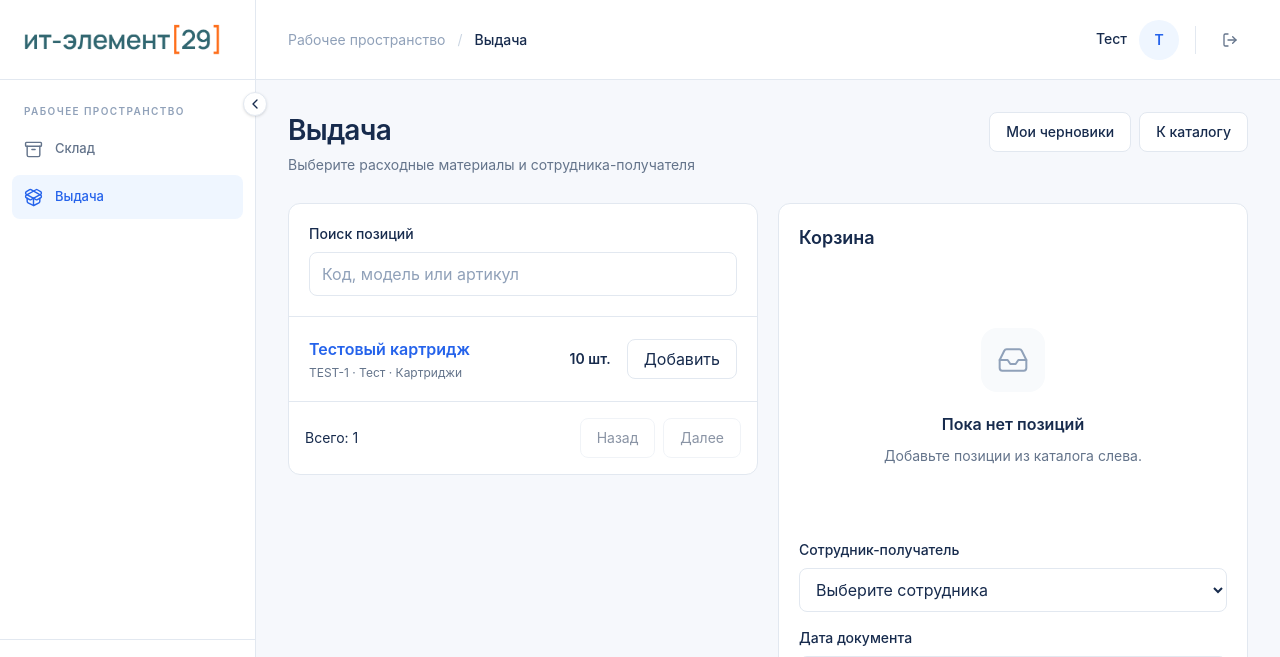
Test: после неизвестного результата блокирует изменения и повторяет тот же payload и ключ
Click the button with aria-label "Добавить в корзину TEST-1": (682, 359) [627,339,737,379]
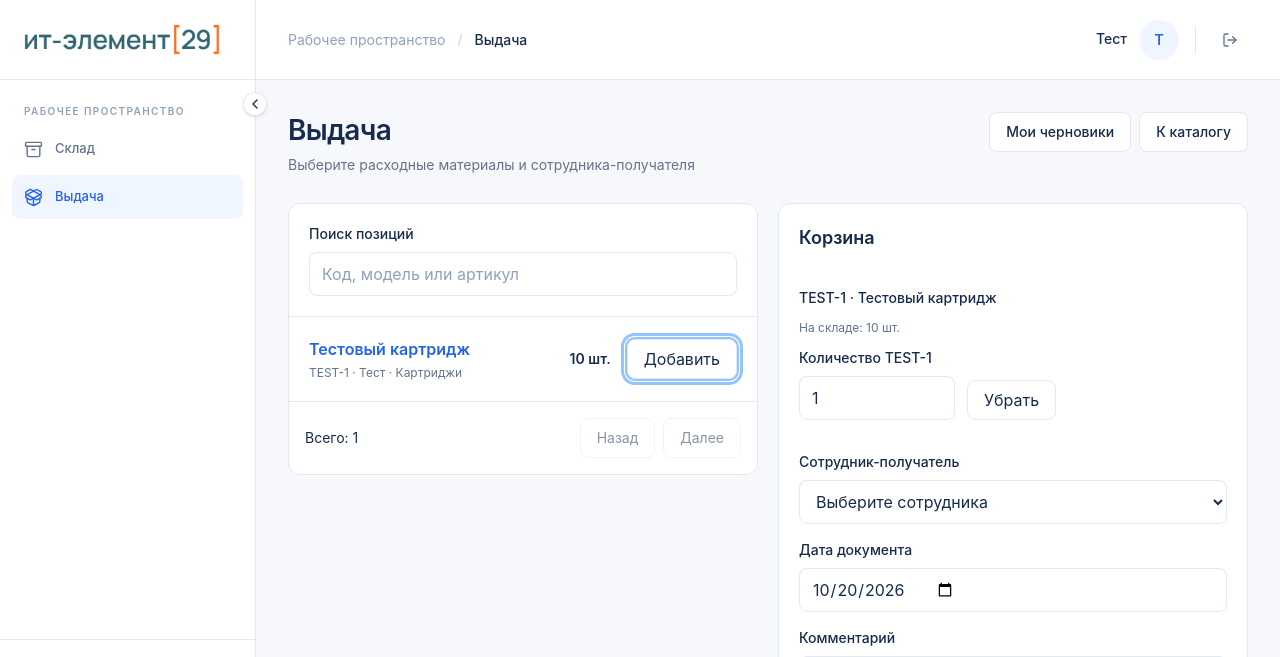
Replace the text in the number field labelled "Количество TEST-1" with "3": (877, 398) [799,376,955,420]
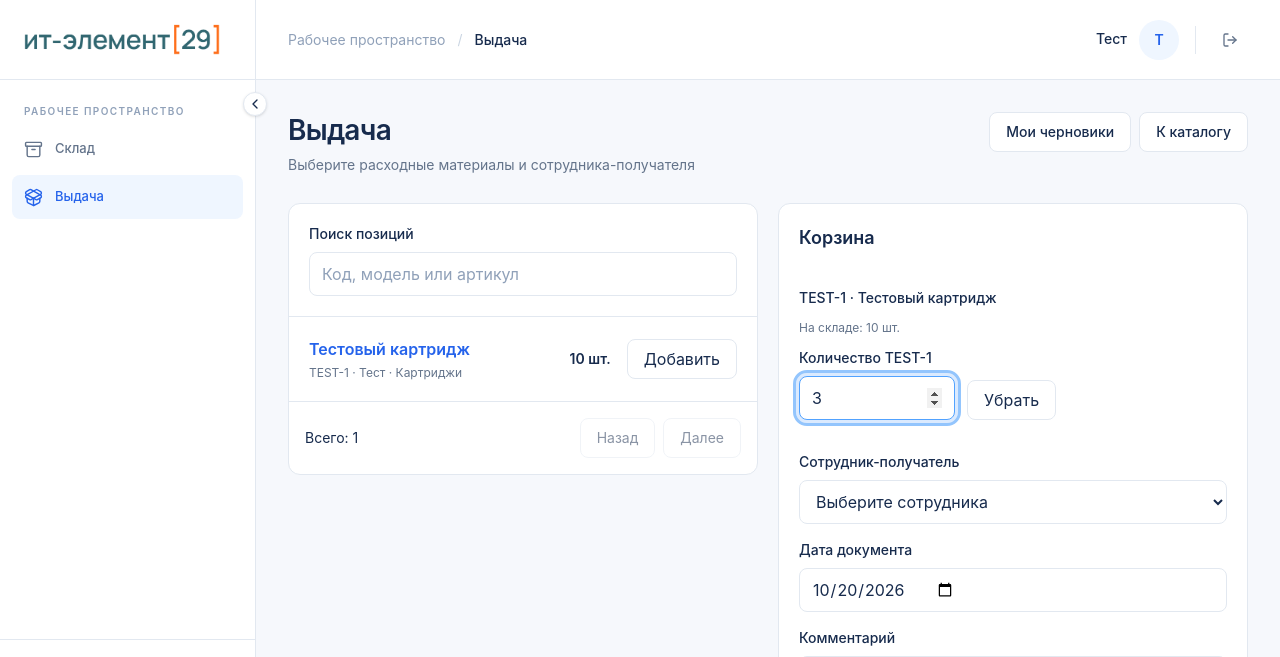
Select "Получатель · 001 · Отдел" in the dropdown labelled "Сотрудник-получатель": (1013, 502) [799,480,1227,524]
(page scrolled)
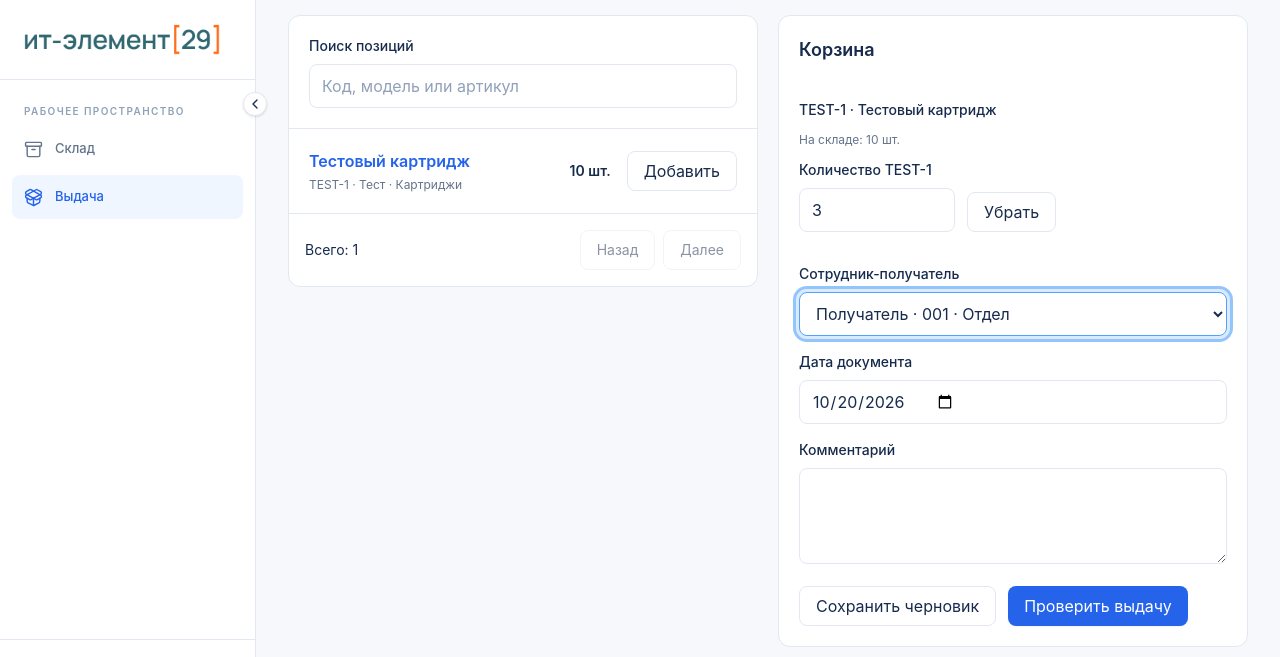
Click the button "Проверить выдачу": (1098, 606) [1008,586,1188,626]
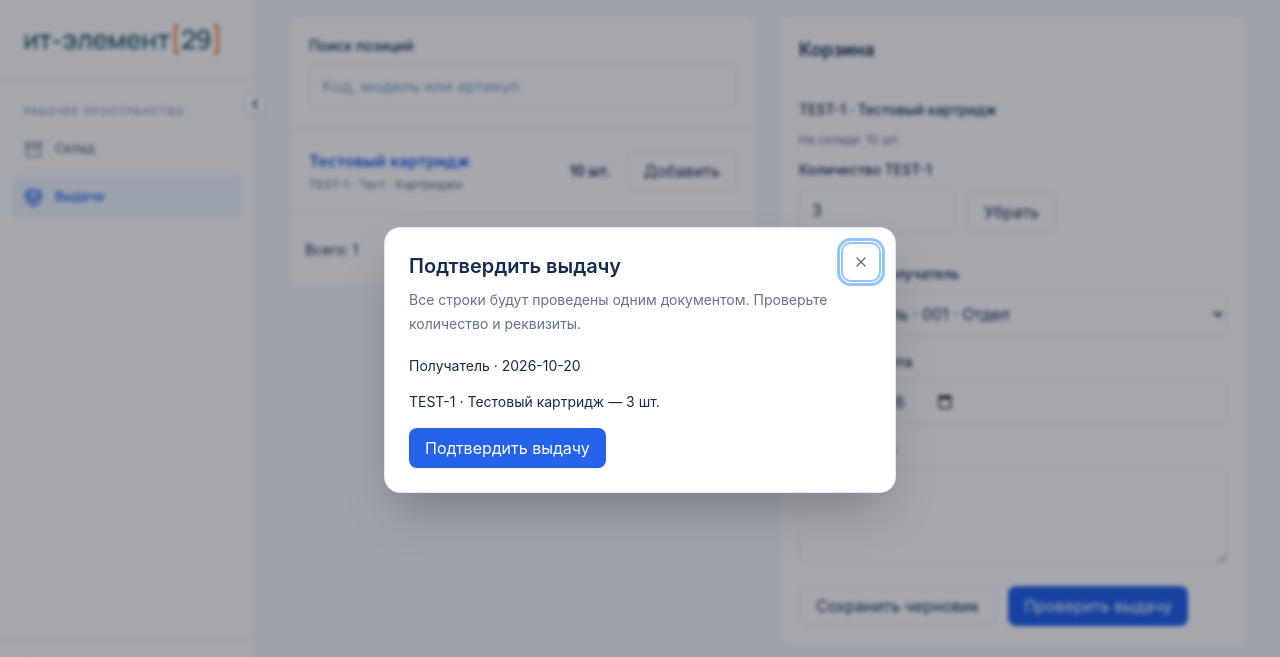
Click the button "Подтвердить выдачу": (507, 448) [409,428,606,468]
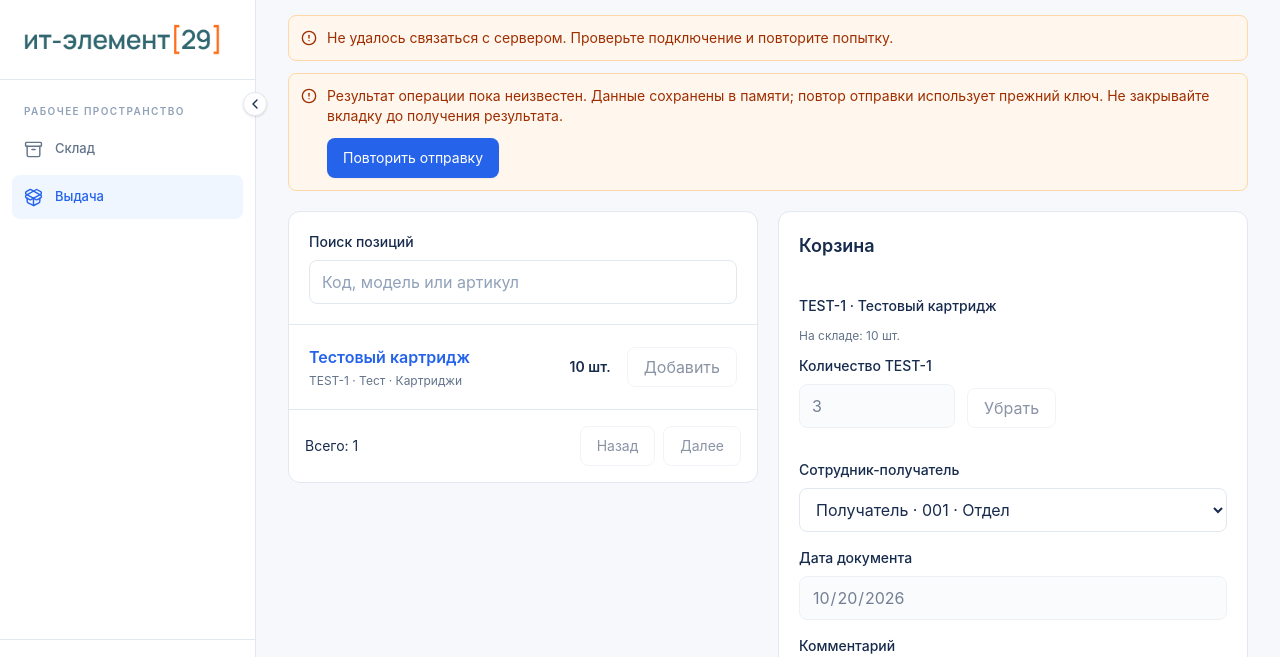
Now the text "Результат операции пока неизвестен" is shown, box [327,87,1209,124]
Now the number field labelled "Количество TEST-1" is disabled, box [799,384,955,428]
Click the button "Повторить отправку": (413, 158) [327,138,499,178]
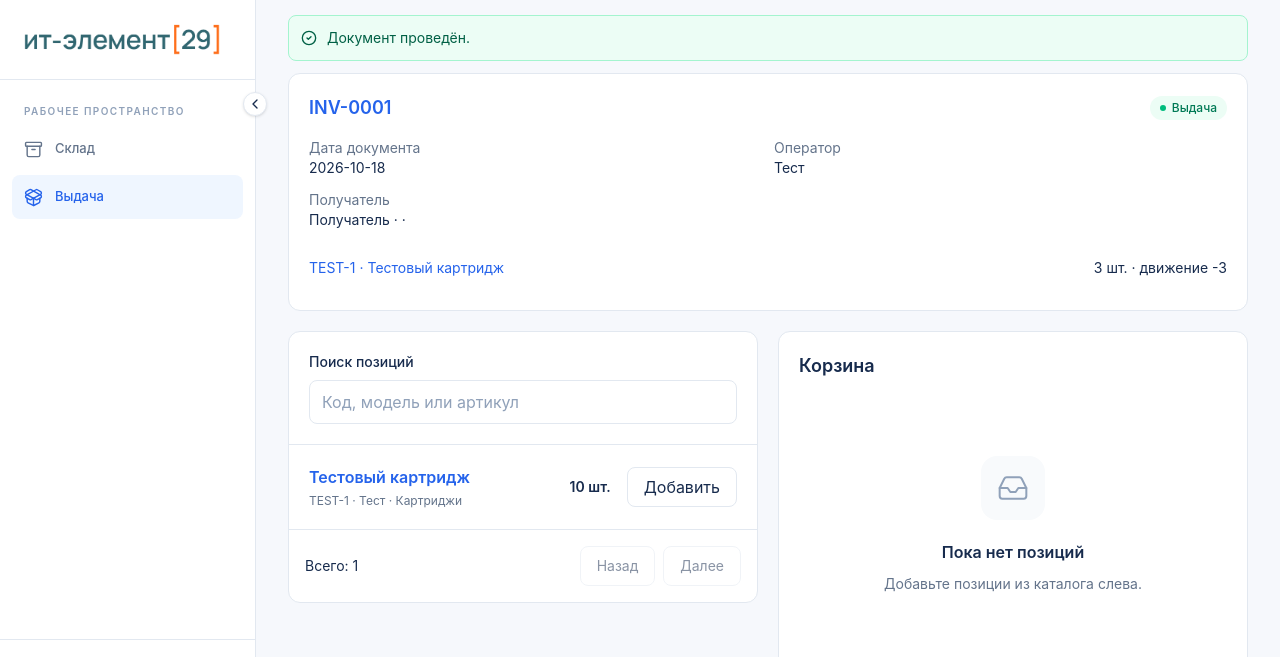
Now the link "INV-0001" is shown, box [309,97,391,118]
Now the label labelled "Количество TEST-1" is gone
